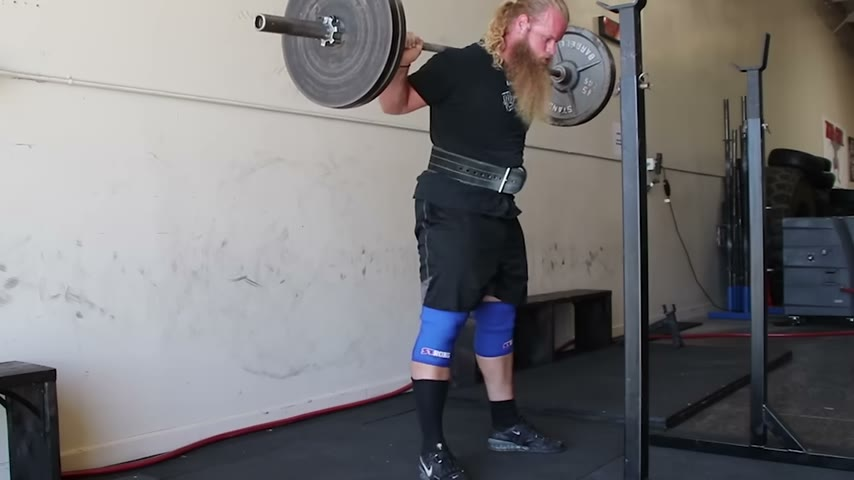barbell_plate_side: (253, 0, 355, 158), (555, 9, 621, 133)
